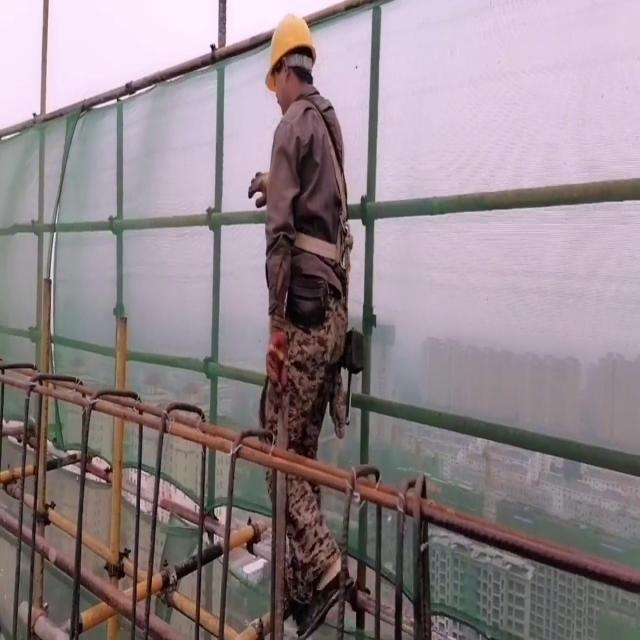Arnes_seguridad: (276, 84, 358, 274)
